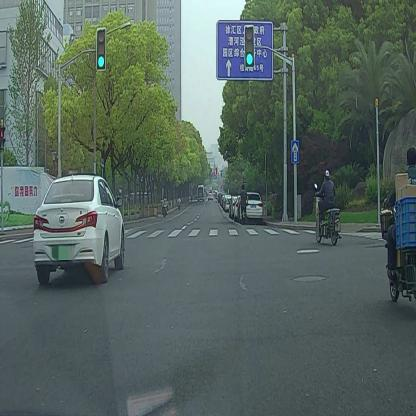Green Light: (243, 24, 255, 70), (96, 26, 106, 73)
